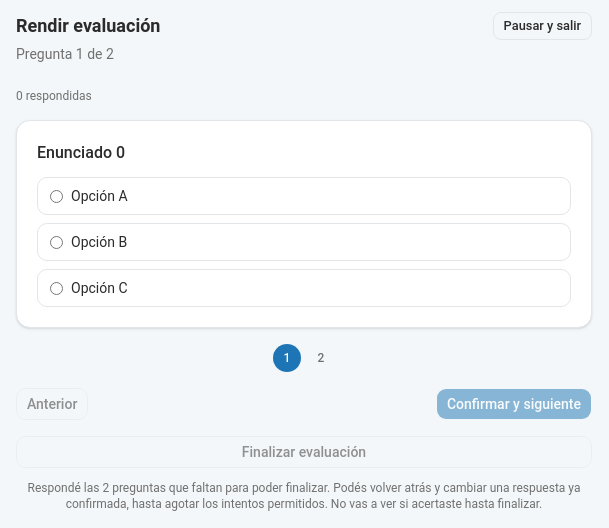
Test: RendirEvaluacion › confirmar una respuesta la persiste y avanza a la siguiente pregunta
Expected: the text "Enunciado 0" is shown, left=37, top=143, right=125, bottom=162
Click the text "Opción A" at (99, 196), box left=37, top=177, right=571, bottom=215
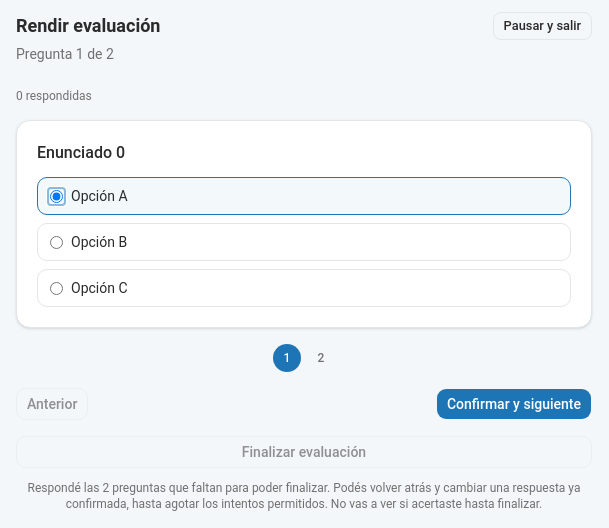
Click the button "Confirmar y siguiente" at (514, 404), box left=436, top=388, right=592, bottom=420
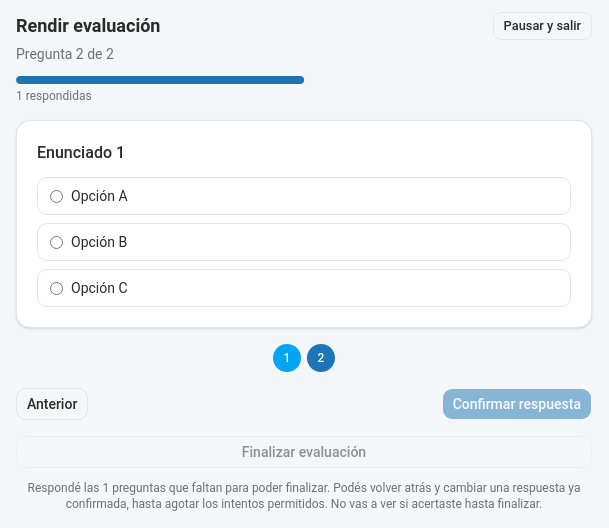
Result: the text "Enunciado 1" is shown at left=37, top=143, right=125, bottom=162
